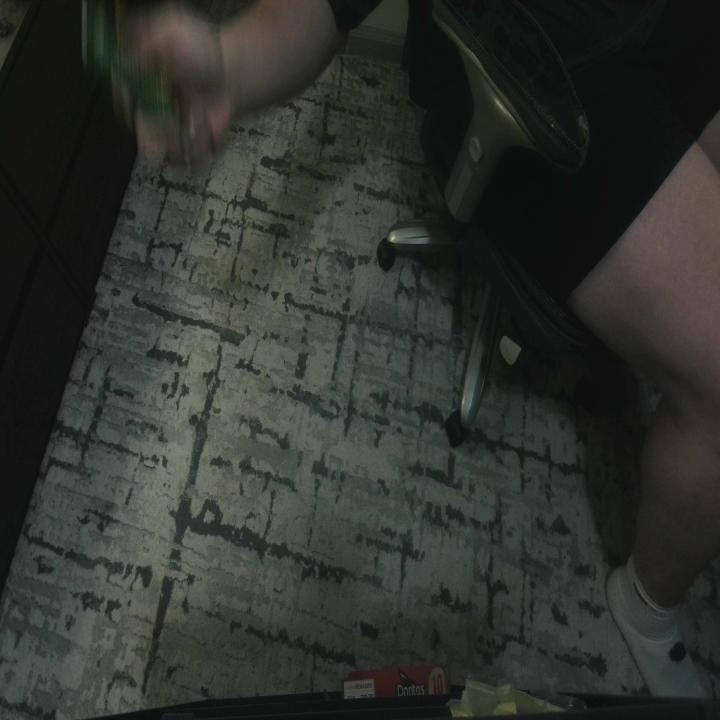Granola Bar: (76, 5, 196, 163)
